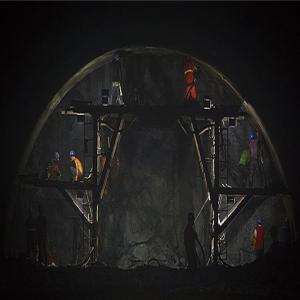blue: (54, 150, 60, 164), (249, 132, 256, 143), (257, 215, 263, 227), (70, 149, 76, 160), (114, 52, 120, 62)
